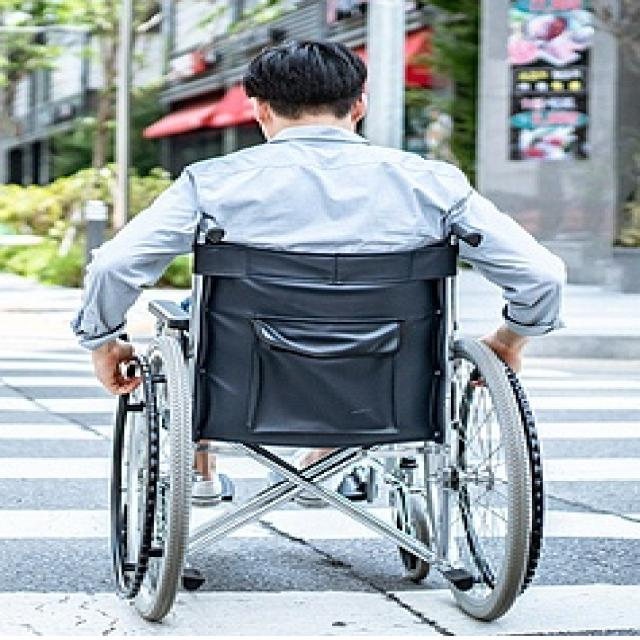wheelchair: (70, 39, 570, 621)
